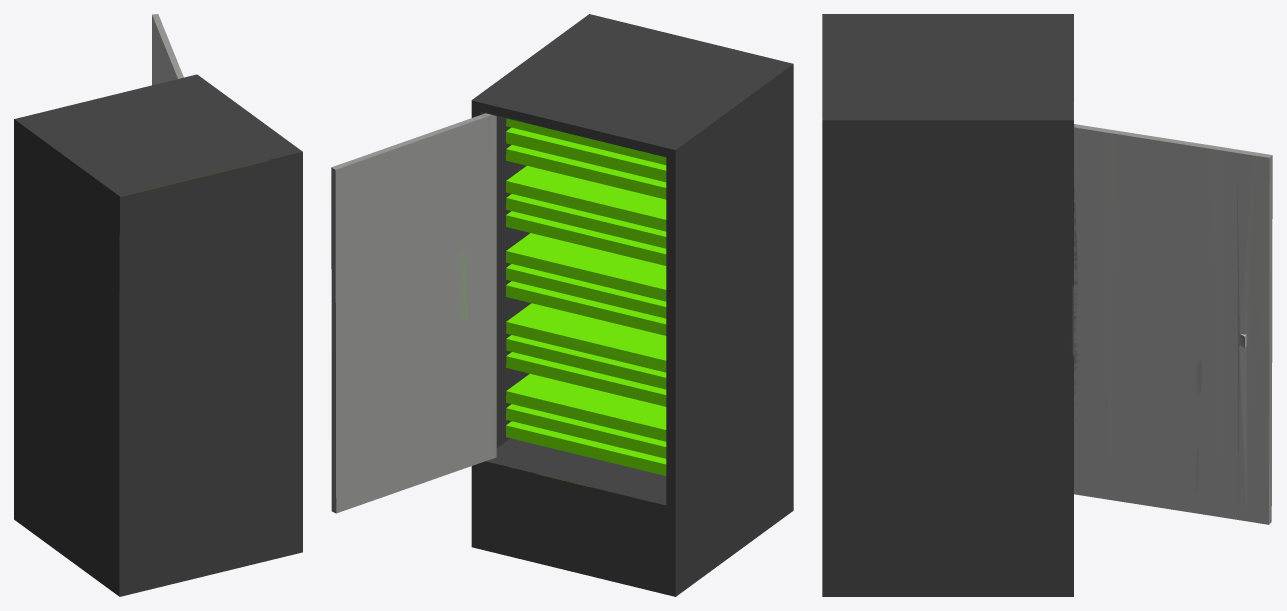
File: schrankOffen.glb
3 renders of one model, left to right at view 1: azimuth 30°, elevation 25°; view 2: azimuth 150°, elevation 25°; view 3: azimuth 270°, elevation 25°, orthographic. The views are drawn at different scales.
Visible parts, largest first — view 1: 300604_23_06_15_12_54_18_1; view 2: 300604_23_06_15_12_54_18_1; view 3: 300604_23_06_15_12_54_18_1.
Part boxes in pixels (left/top/right/bottom): 300604_23_06_15_12_54_18_1: left=14, top=14, right=302, bottom=596; 300604_23_06_15_12_54_18_1: left=331, top=14, right=793, bottom=596; 300604_23_06_15_12_54_18_1: left=822, top=14, right=1272, bottom=596.
Bounding box in the file's own units: 1.72 × 2.91 × 2.49.
Materials: 1 (1 with a texture image).
